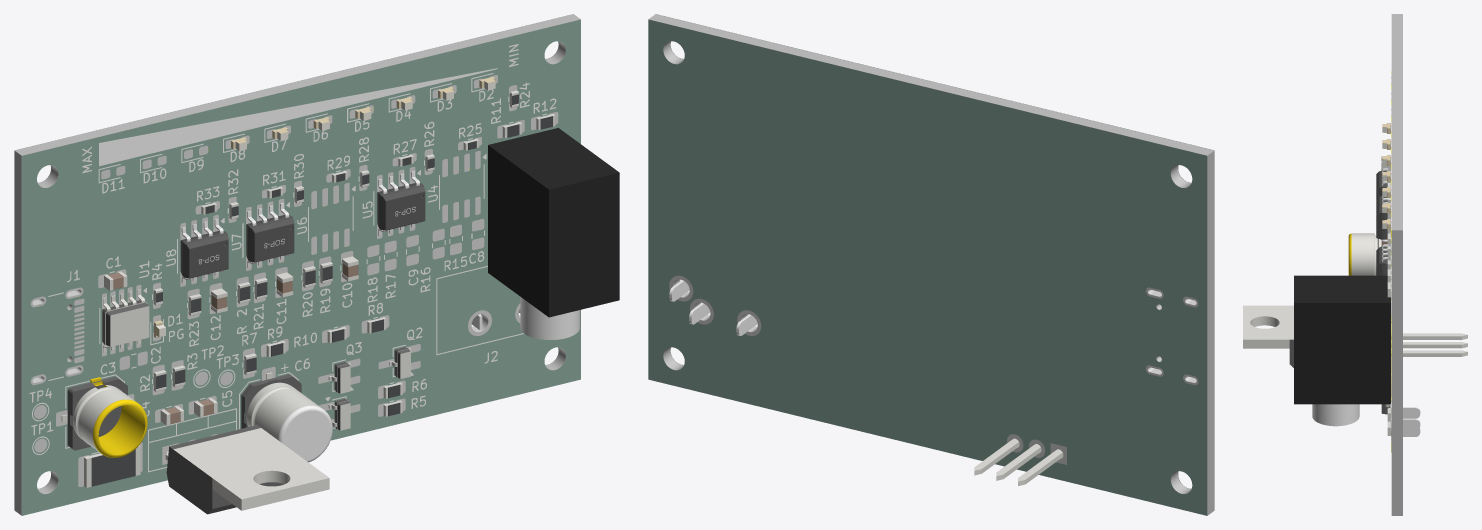
Rendered from haven map2 - Composite part 3.glb.
3 renders of one model, left to right at view 1: azimuth 30°, elevation 25°; view 2: azimuth 150°, elevation 25°; view 3: azimuth 270°, elevation 25°, orthographic. The views are drawn at different scales.
Visible parts, largest first — view 1: lie-detector_soldermask, Jack_3.5mm_CUI_SJ1-3533NG_Horizontal (×2), TO-220-3_Vertical, lie-detector_PCB, CP_Elec_6.3x5.4, CP_Elec_6.3x7.7, lie-detector_silkscreen, SSOP-10-1EP_3.9x4.9mm_P1mm_EP2.1x3.3mm, SOP-8_3.76x4.96mm_P1.27mm_4, SOP-8_3.76x4.96mm_P1.27mm_3, SOP-8_3.76x4.96mm_P1.27mm_5, R_2512_6332Metric; view 2: lie-detector_soldermask, lie-detector_PCB, TO-220-3_Vertical; view 3: Jack_3.5mm_CUI_SJ1-3533NG_Horizontal (×2), lie-detector_PCB, TO-220-3_Vertical, CP_Elec_6.3x5.4, SOP-8_3.76x4.96mm_P1.27mm_3, SOP-8_3.76x4.96mm_P1.27mm_5.
Boxes of the visible parts, x1,y1,x2,y2 form: lie-detector_soldermask: [22, 19, 580, 515]; Jack_3.5mm_CUI_SJ1-3533NG_Horizontal (×2): [488, 128, 619, 339]; TO-220-3_Vertical: [165, 425, 329, 514]; lie-detector_PCB: [14, 14, 580, 515]; CP_Elec_6.3x5.4: [61, 376, 147, 457]; CP_Elec_6.3x7.7: [241, 372, 332, 462]; lie-detector_silkscreen: [99, 68, 497, 166]; SSOP-10-1EP_3.9x4.9mm_P1mm_EP2.1x3.3mm: [102, 289, 149, 352]; SOP-8_3.76x4.96mm_P1.27mm_4: [180, 231, 228, 278]; SOP-8_3.76x4.96mm_P1.27mm_3: [246, 215, 294, 262]; SOP-8_3.76x4.96mm_P1.27mm_5: [377, 183, 425, 230]; R_2512_6332Metric: [84, 445, 140, 487]; lie-detector_soldermask: [648, 19, 1207, 515]; lie-detector_PCB: [648, 14, 1214, 515]; TO-220-3_Vertical: [974, 438, 1063, 486]; Jack_3.5mm_CUI_SJ1-3533NG_Horizontal (×2): [1294, 275, 1390, 426]; lie-detector_PCB: [1391, 14, 1402, 515]; TO-220-3_Vertical: [1243, 305, 1467, 367]; CP_Elec_6.3x5.4: [1348, 233, 1381, 275]; SOP-8_3.76x4.96mm_P1.27mm_3: [1376, 196, 1387, 239]; SOP-8_3.76x4.96mm_P1.27mm_5: [1376, 246, 1387, 275].
Size of the model in its own units: 0.065 by 0.04 by 0.0285.
